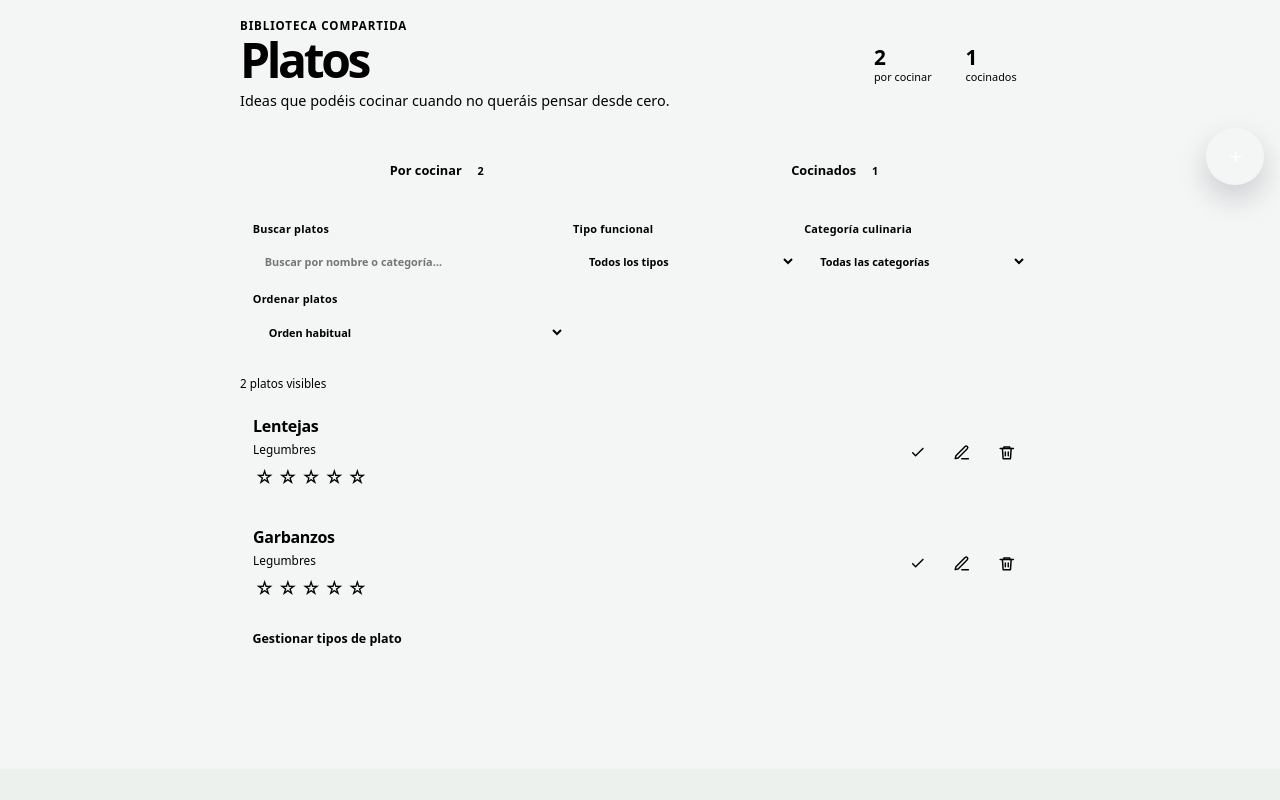
Test: MenuPlanningView › muestra el contexto de resultados al filtrar por tipo y categoría
The image size is (1280, 800).
Expected: the text "Garbanzos" is shown, [253,526,335,548]
Expected: the text "2 platos visibles" is shown, [240,376,326,391]
Select "Legumbres" in the dropdown labelled "Tipo funcional". click: (685, 262)
box: [573,240,796,284]
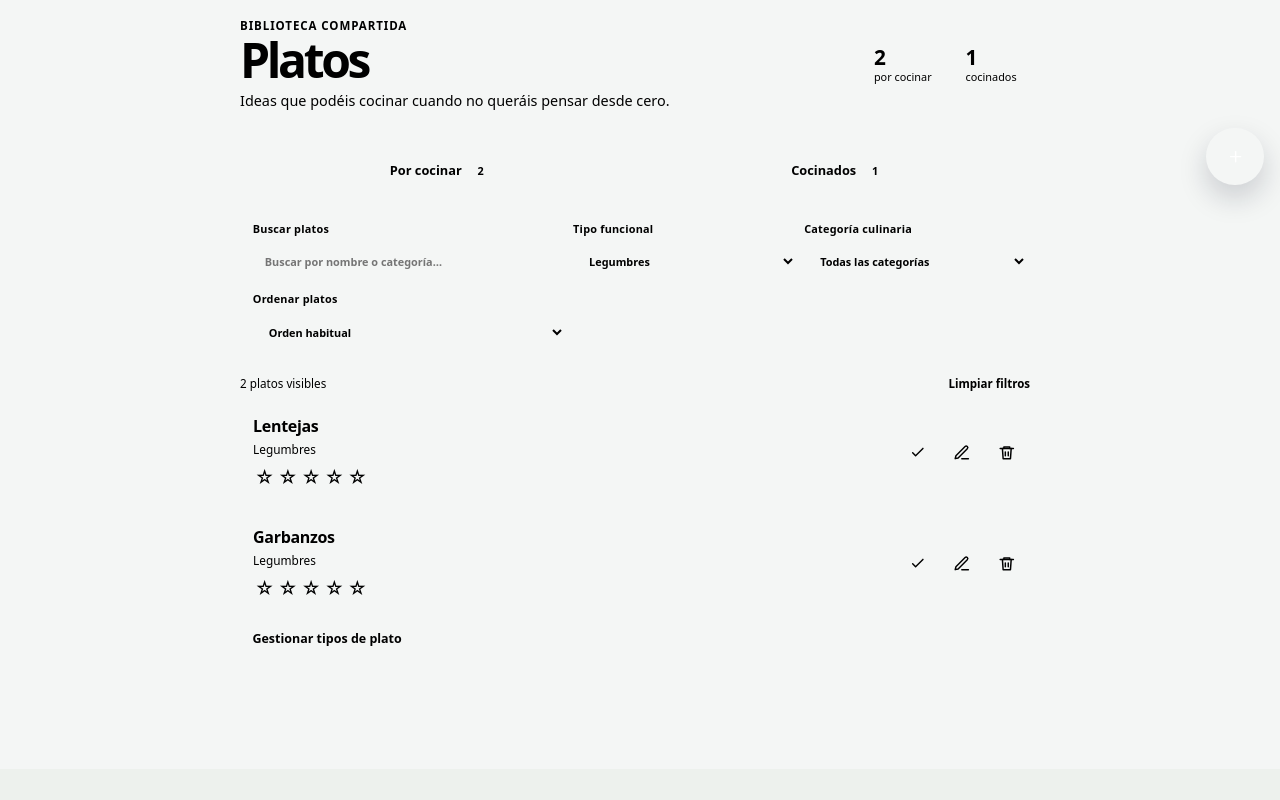
Select "Legumbres" in the dropdown labelled "Categoría culinaria". click: (916, 262)
box: [804,240,1027,284]
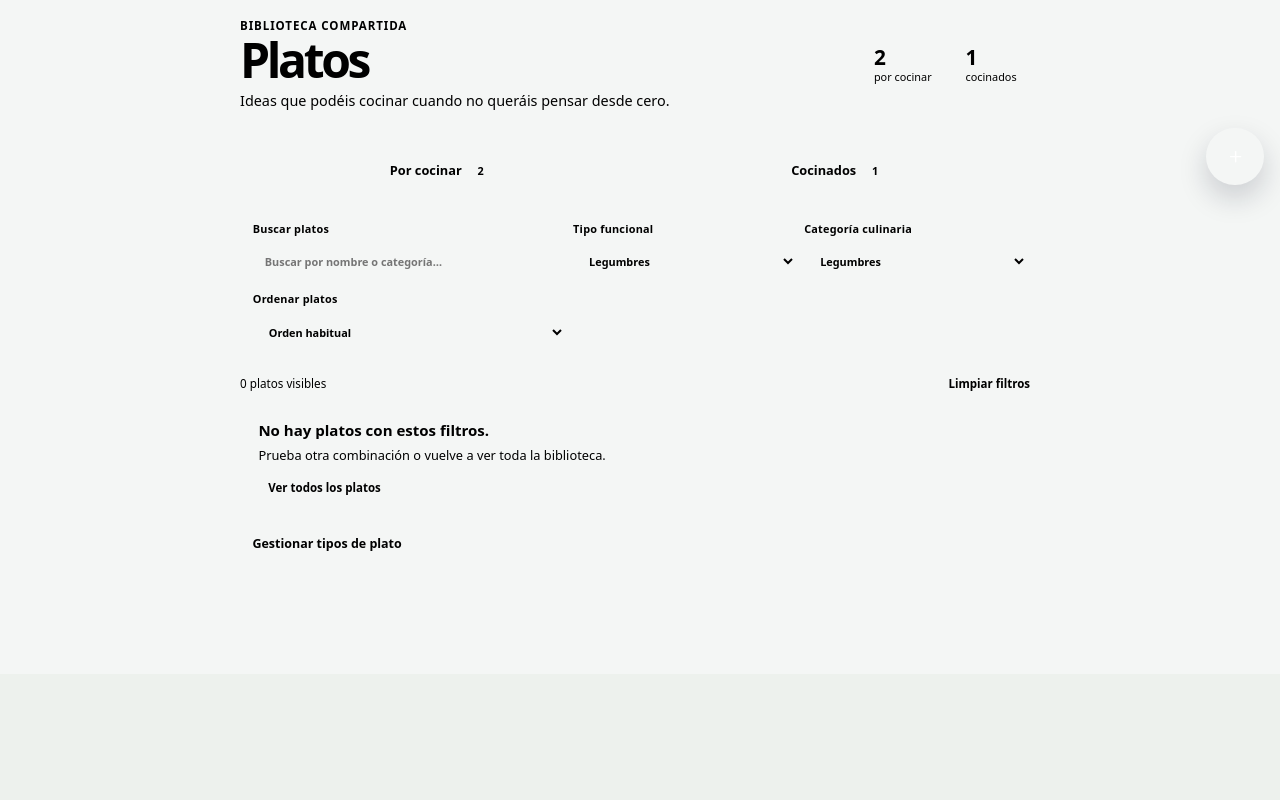
Now the text "No hay platos con estos filtros." is shown, box [258,420,489,440]
Click the button "Ver todos los platos". click: (325, 487)
box: [258,474,391,501]
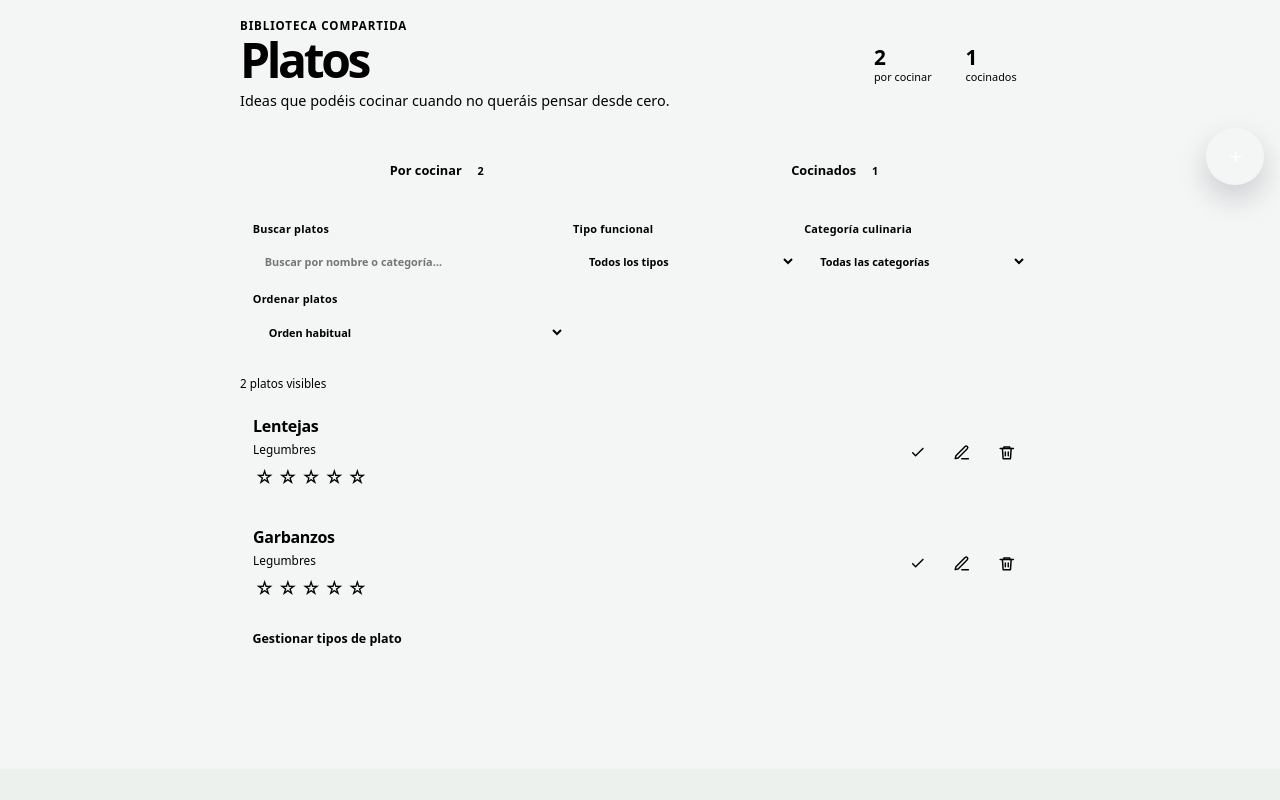
Now the text "2 platos visibles" is shown, box [240,376,326,391]
